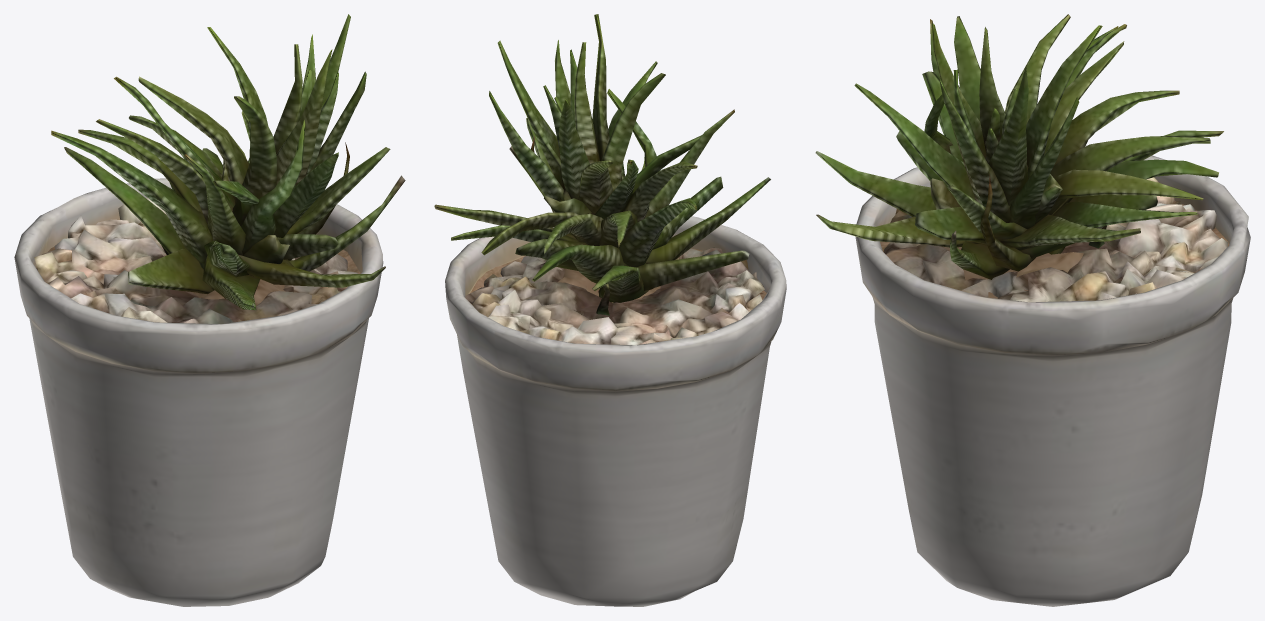
Rendered from plant_lod1.glb.
The picture shows the model from 3 angles, left to right: view 1: azimuth 30°, elevation 25°; view 2: azimuth 150°, elevation 25°; view 3: azimuth 270°, elevation 25°; orthographic projection. The views are drawn at different scales.
Size of the model in its own units: 0.1677 by 0.2671 by 0.1841.
1 material, 1 textured.
